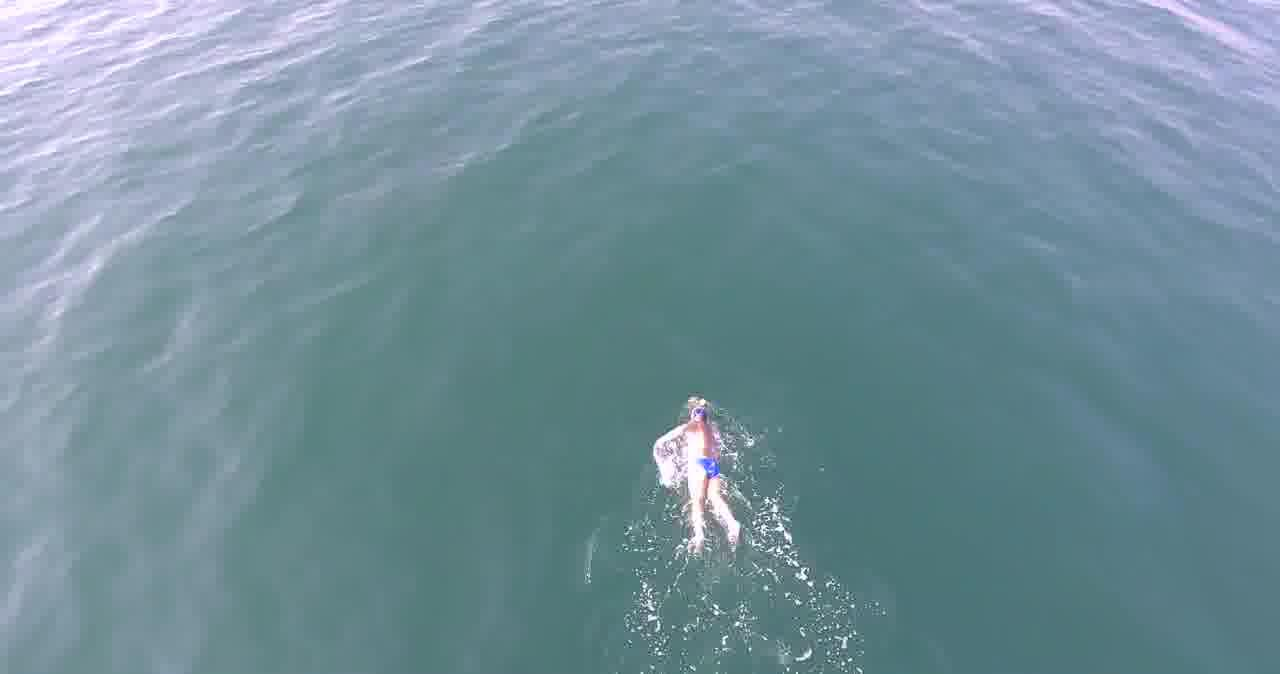human: (649, 386, 746, 560)
